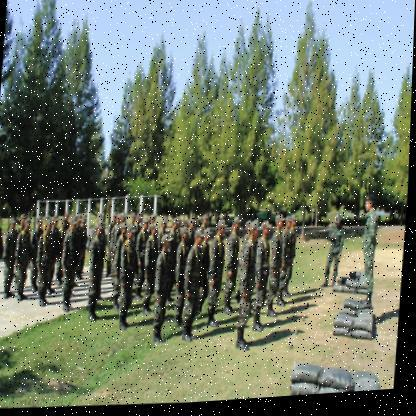police_car: (353, 198, 391, 320), (238, 224, 268, 340), (251, 220, 278, 340), (150, 238, 178, 350), (182, 235, 210, 339), (86, 222, 112, 329), (224, 213, 250, 318), (60, 220, 86, 314), (116, 230, 140, 328), (207, 228, 230, 328), (278, 210, 301, 310), (269, 212, 288, 324), (324, 212, 348, 298), (38, 219, 58, 305), (16, 219, 34, 304), (109, 209, 130, 262), (6, 214, 20, 286), (138, 210, 162, 243), (0, 211, 5, 301)
